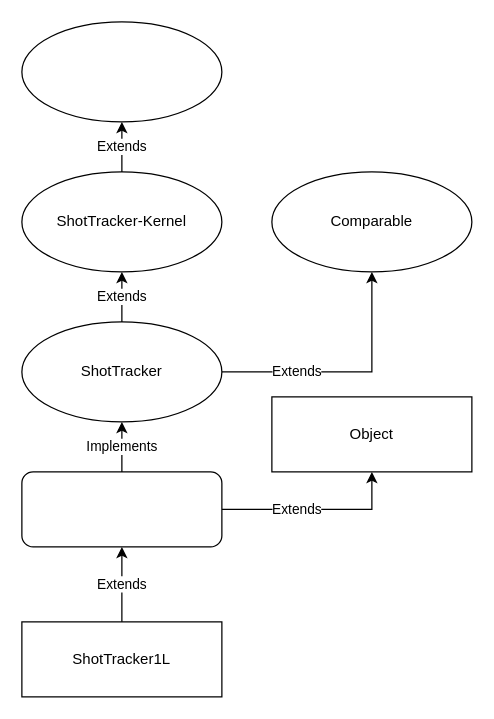
Some shapes in this 494 by 719 pixel diagram are drawn without their labels. Each missing label, with the centre of its shape:
"ShotTrackerSecondary" goes at pixel 121 509.
"Standard" goes at pixel 121 71.
